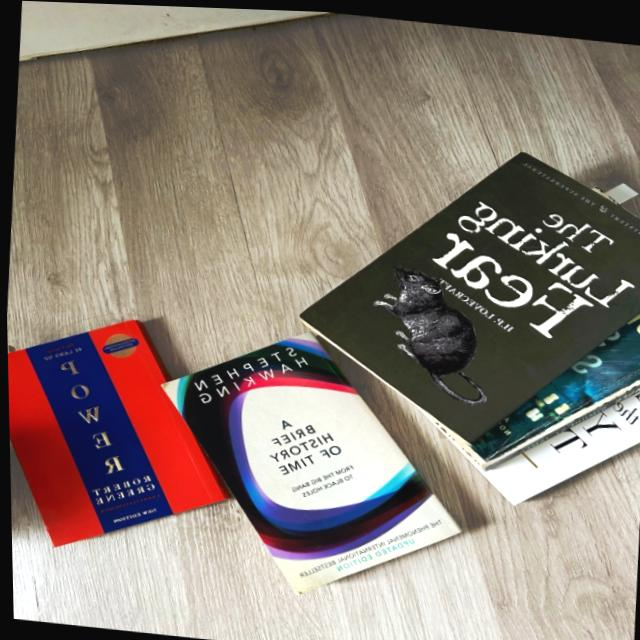Book: (299, 148, 640, 439), (163, 335, 456, 589), (6, 319, 226, 545), (425, 313, 640, 468), (455, 385, 640, 500)
